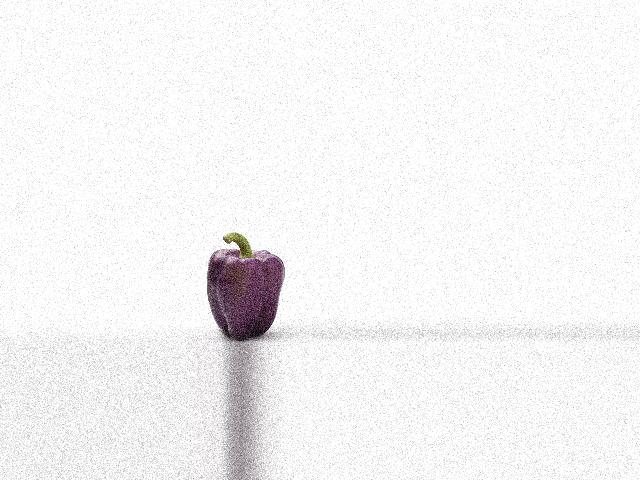bell_pepper: (198, 234, 290, 338)
